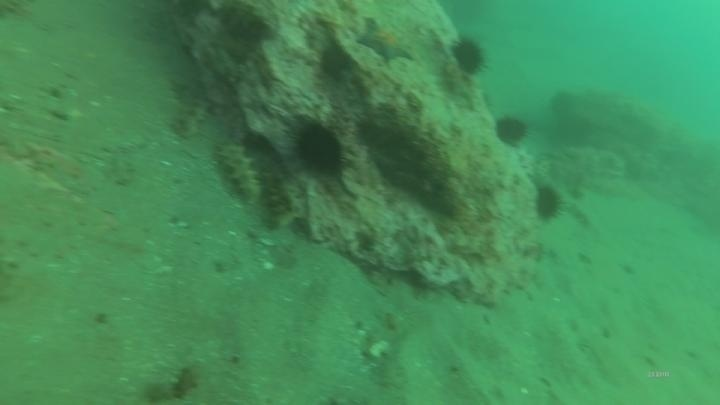echinus: (287, 116, 351, 180), (449, 34, 489, 78), (316, 41, 354, 83), (531, 182, 565, 224), (492, 113, 530, 149)
holothurian: (216, 137, 267, 205), (256, 160, 299, 233), (175, 94, 212, 137)
starfish: (354, 17, 416, 65)
